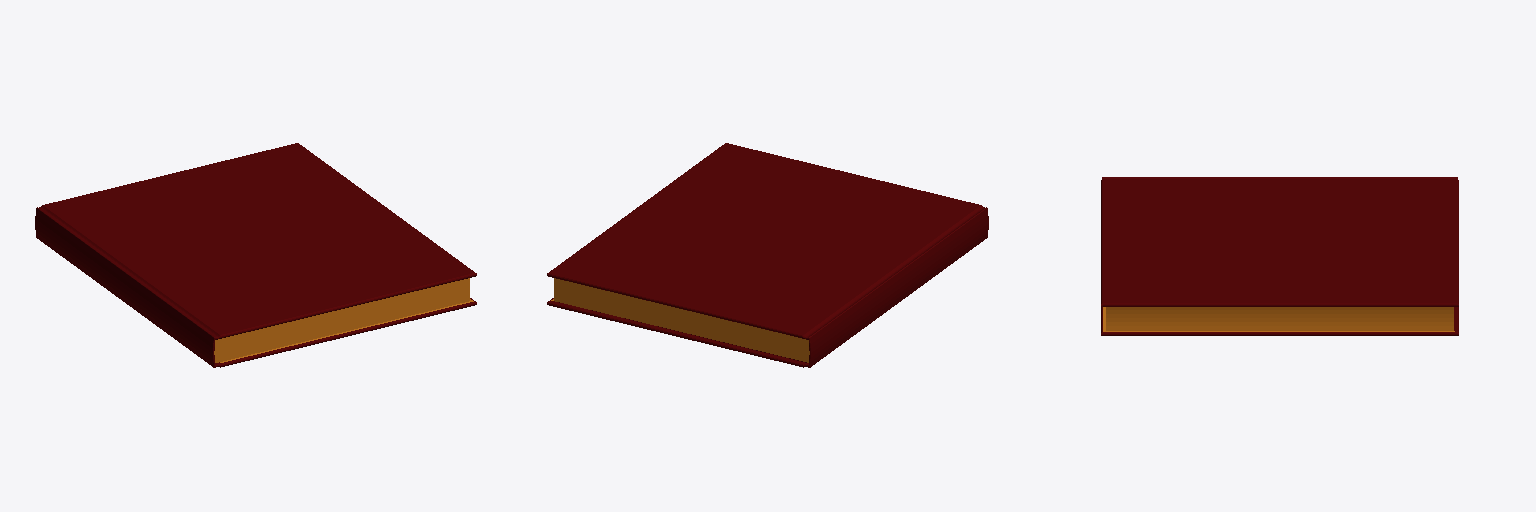
File: book.obj
3 renders of one model, left to right at view 1: azimuth 30°, elevation 25°; view 2: azimuth 150°, elevation 25°; view 3: azimuth 270°, elevation 25°, orthographic.
Parts seen in each view (by area): view 1: book; view 2: book; view 3: book.
Part boxes in pixels (left/top/right/bottom): book: left=35, top=143, right=476, bottom=367; book: left=547, top=143, right=988, bottom=367; book: left=1101, top=177, right=1458, bottom=335.
Size of the model in its own units: 0.0462 by 0.0054 by 0.0543.